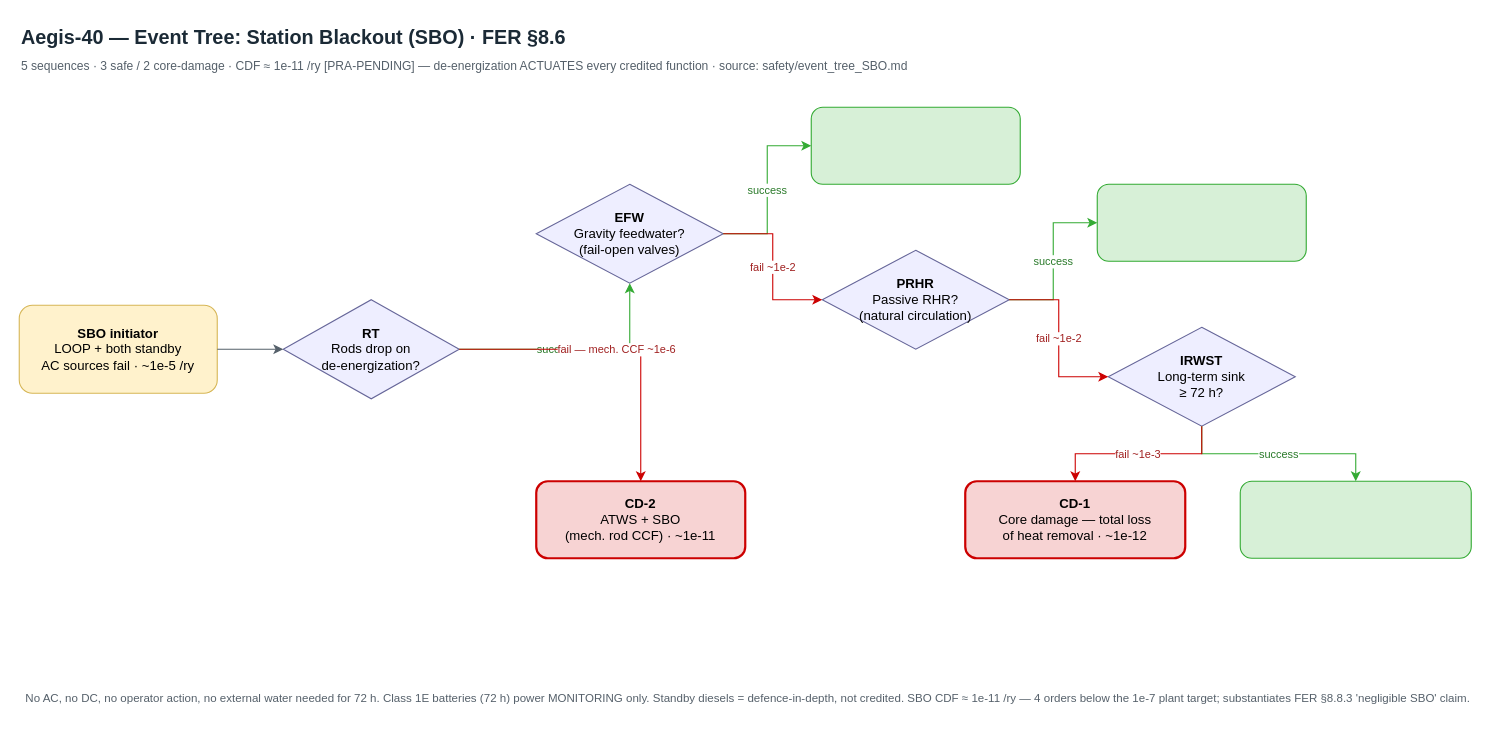
The diagram is 1491 pixels wide and 752 high, and some of its shapes have lost their labels. Here are the shapes that lost their labels. From the top down, the box of each, then its label:
(810, 106, 1020, 184): OK-1 Hot standby on SG sink (dominant sequence)
(1096, 183, 1306, 261): OK-2 Passive cooldown via PRHR to IRWST
(1239, 480, 1471, 558): OK-3 ≥72 h passive cooling (AC recovery / ext. makeup after)
